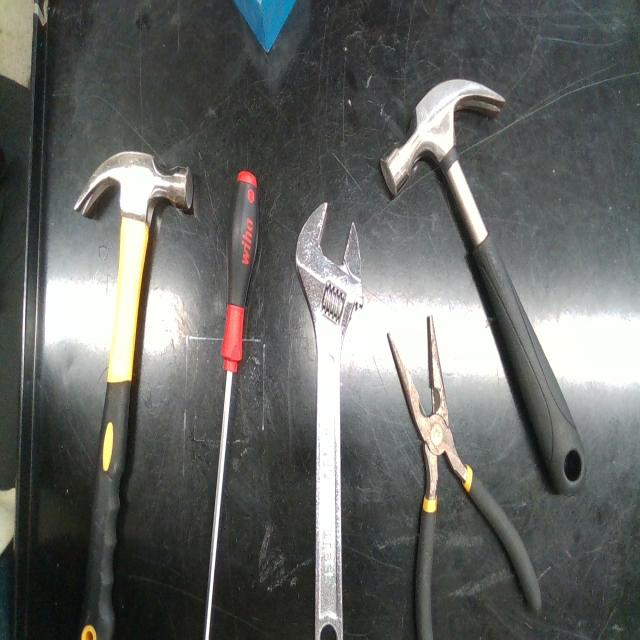Screwdriver: (204, 171, 259, 639)
